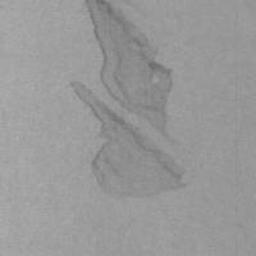Water spot: (70, 77, 192, 198), (83, 0, 175, 132)
